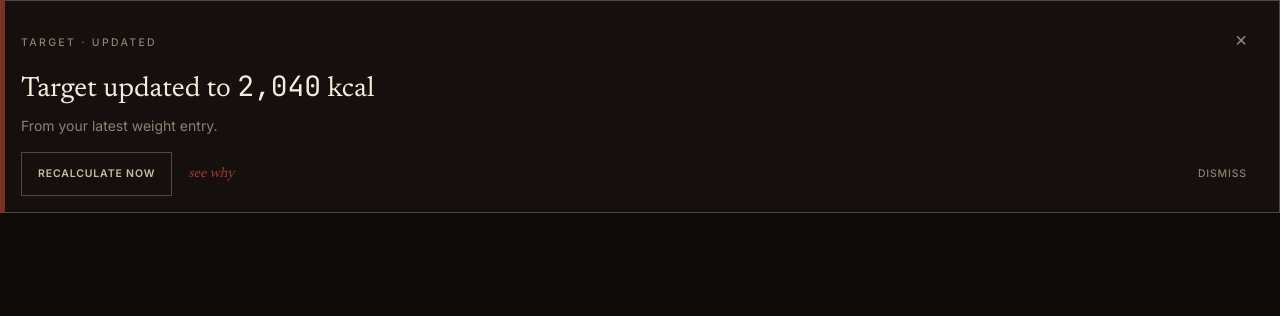
Test: <TargetUpdatedNudgeWrapper /> — C-2 wire contract › Recalc server failure: no success announcement, card stays visible, error surface shown
Step 1. Click the button with test id "target-updated-nudge-recalc" → click(97, 174), box [21,152,172,196]
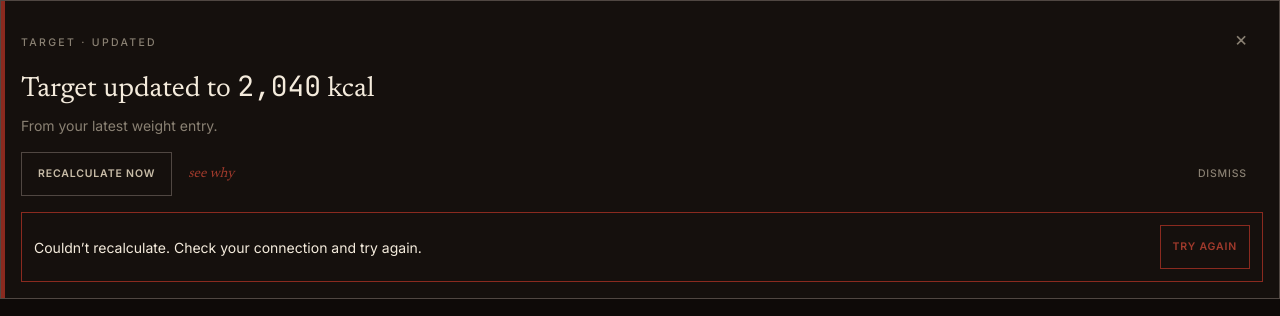
Now the message "Couldn’t recalculate. Check your connection and try again. TRY AGAIN" is shown, box [21,212,1263,282]
Now the button with test id "target-updated-nudge-retry" is shown, box [1160,225,1250,269]
